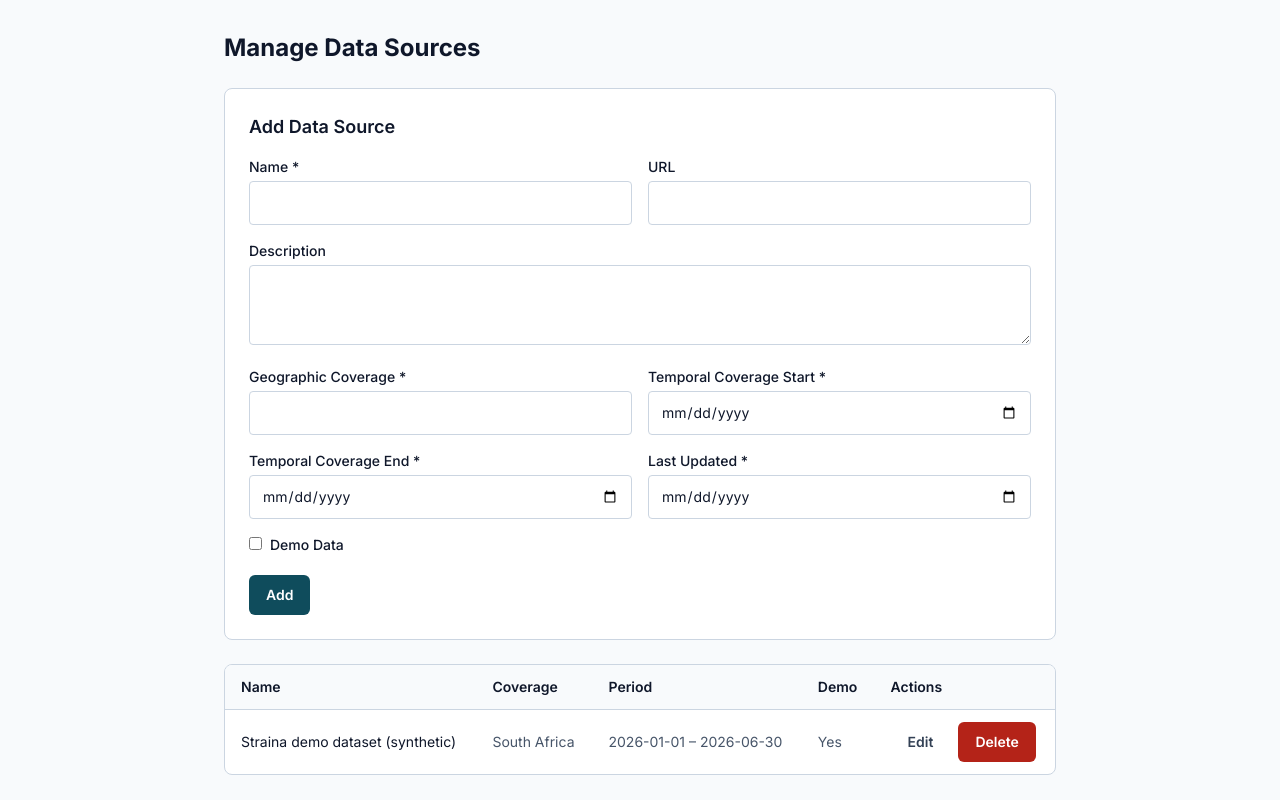
Scenario: S9 Manage Data Sources (T-US12-1, T-US12-2, T-US12-3) › T-US12-2: an admin can add a source with all required fields
Expected: the text "Straina demo dataset (synthetic)" is shown, [225,710,476,774]
Type "National surveillance" into the field below "Name *" at (440, 203), box [249,181,632,225]
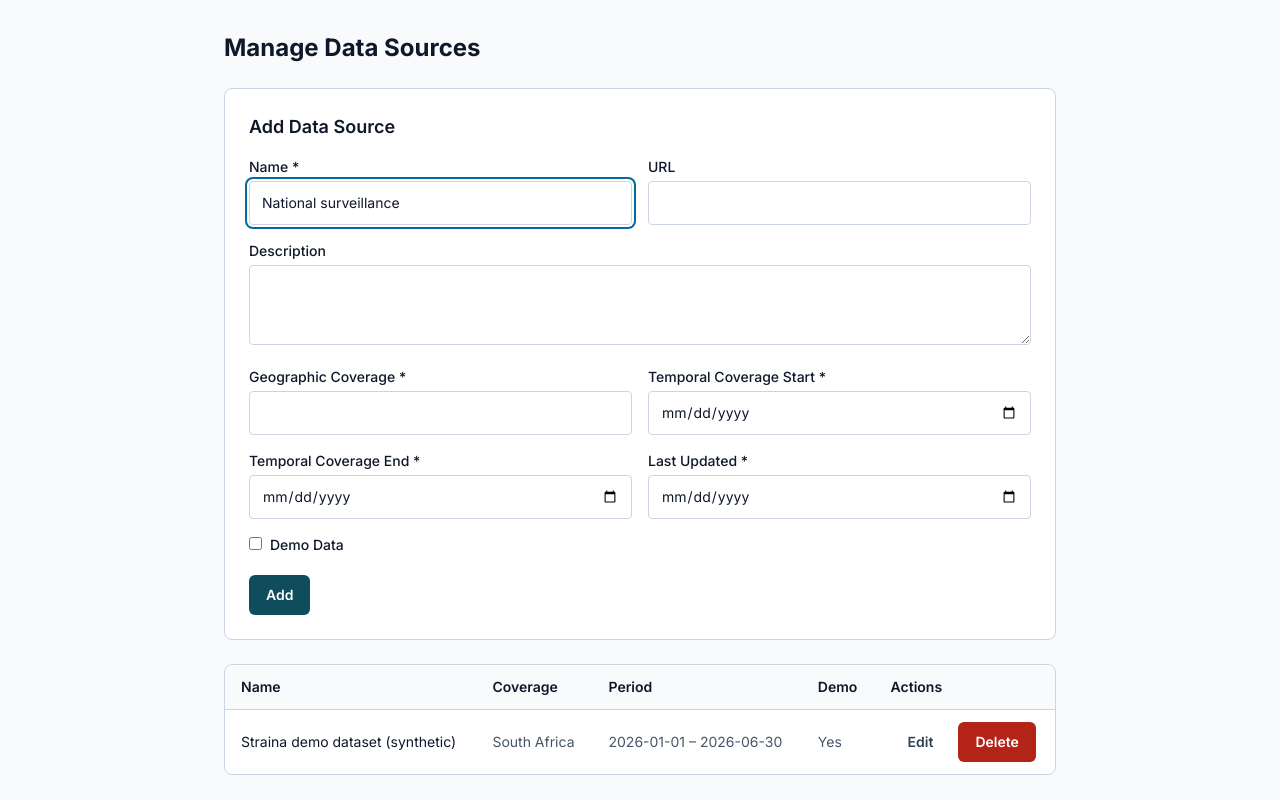
Type "South Africa" into the field below "Geographic Coverage *" at (440, 413), box [249,391,632,435]
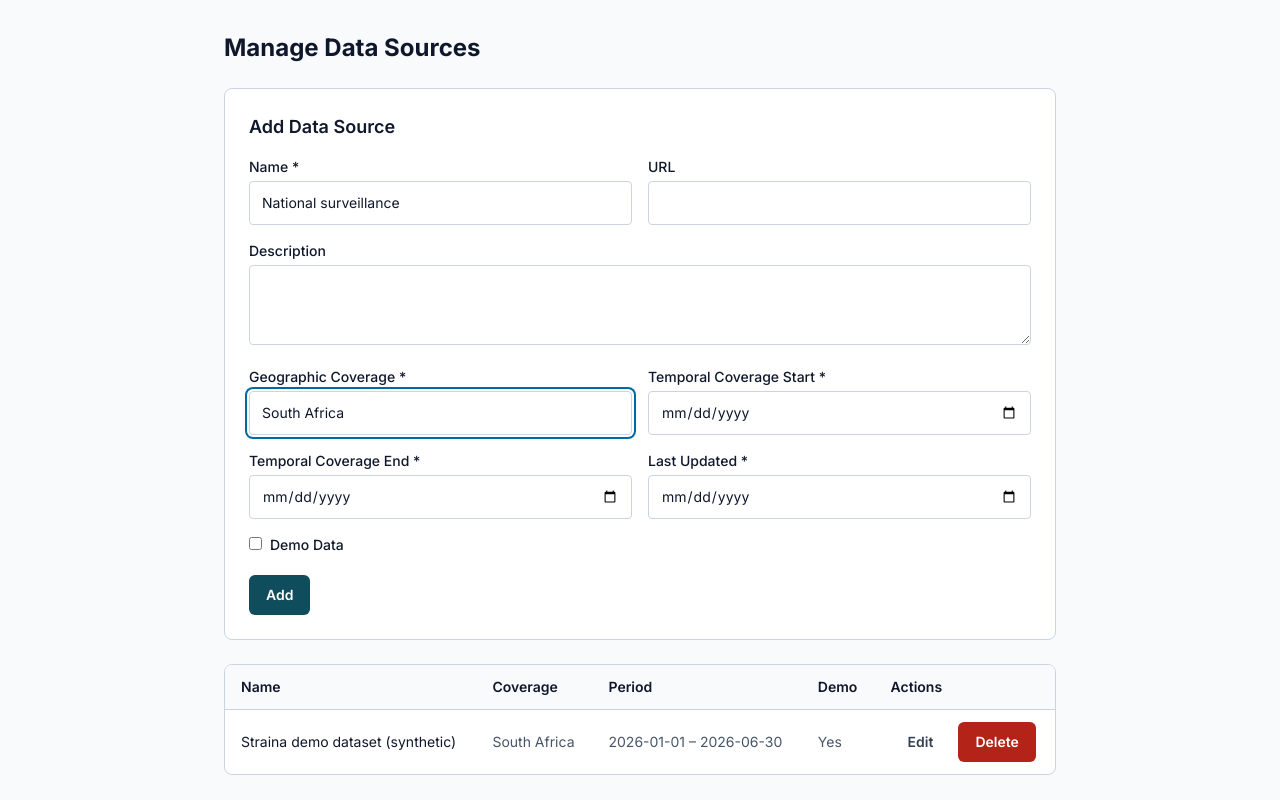
Type "2026-01-01" into the date field below "Temporal Coverage Start *" at (840, 413), box [648,391,1031,435]
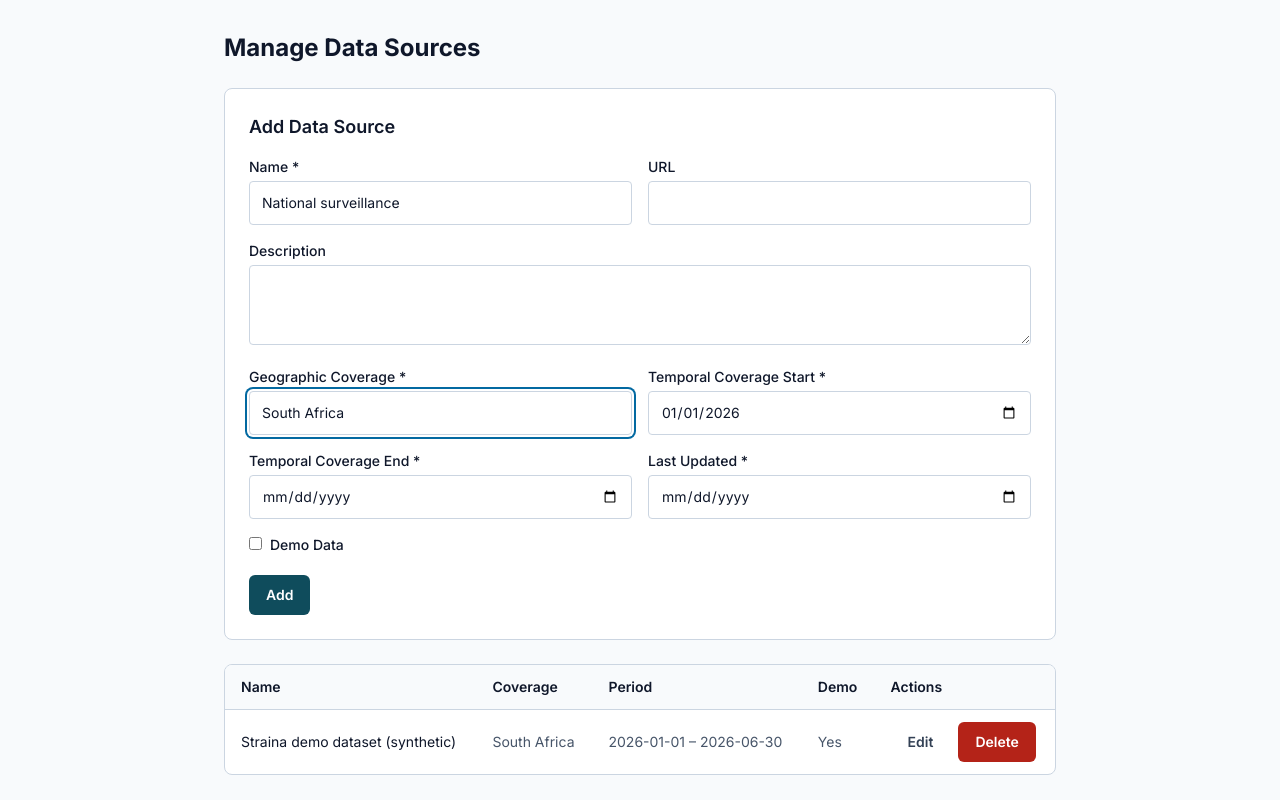
Type "2026-06-30" into the date field below "Temporal Coverage End *" at (440, 497), box [249,475,632,519]
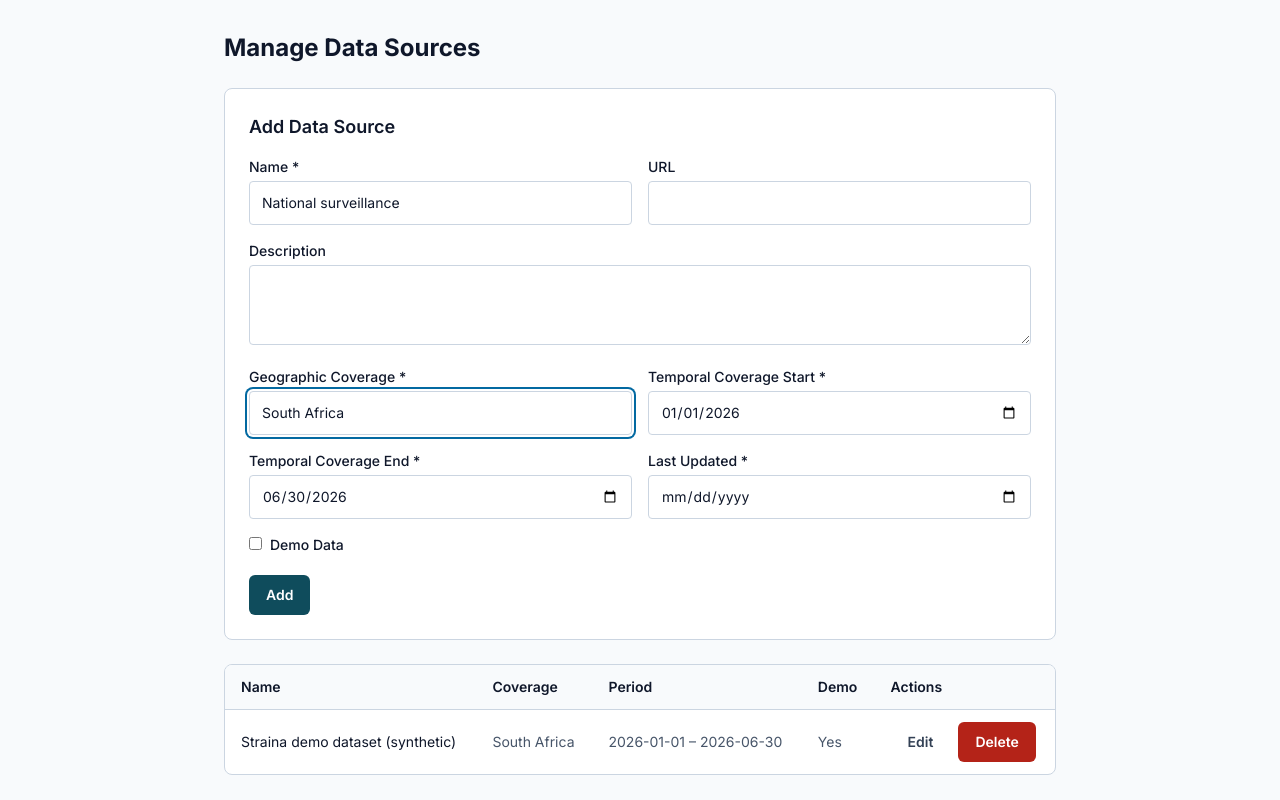
Type "2026-06-30" into the date field below "Last Updated *" at (840, 497), box [648,475,1031,519]
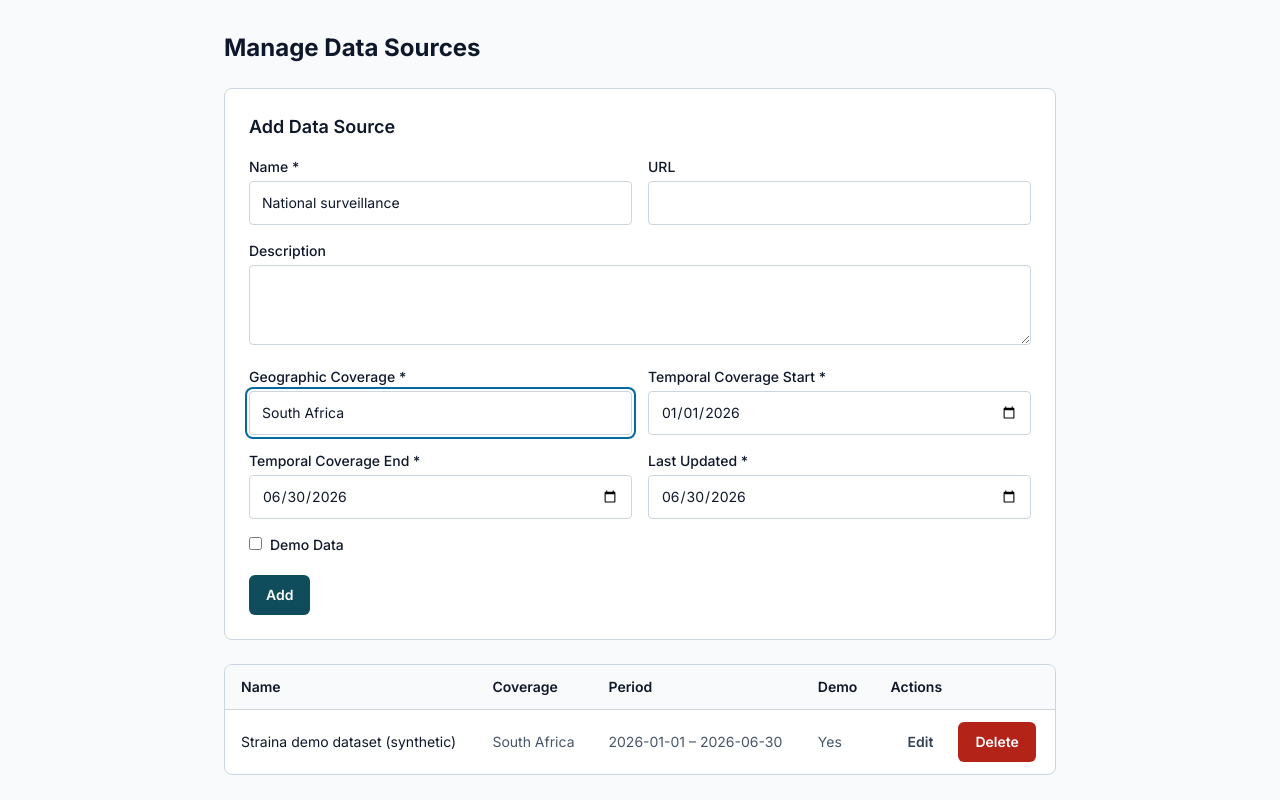
Click the button "Add" at (280, 595), box [249,575,310,615]
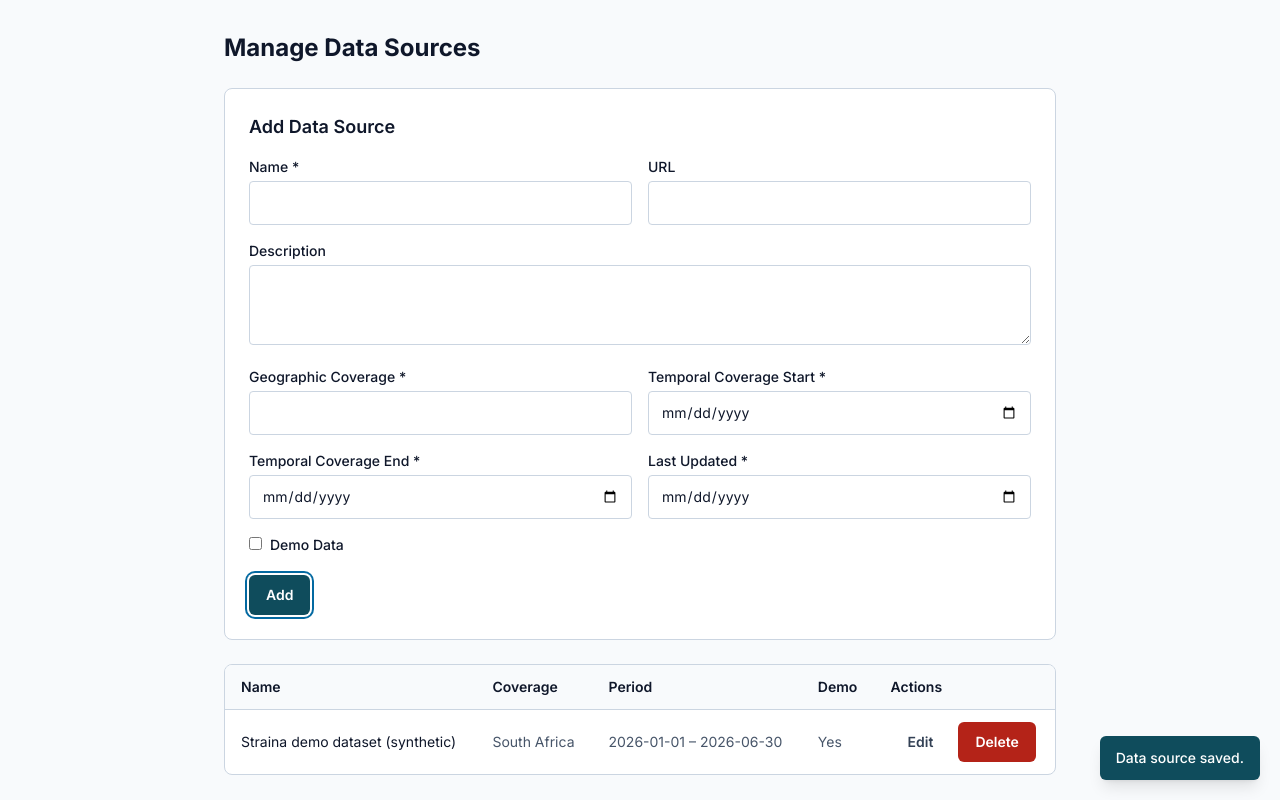
Now the text "Data source saved." is shown, box [1116,748,1244,768]
Now the field below "Name *" is empty, box [249,181,632,225]
